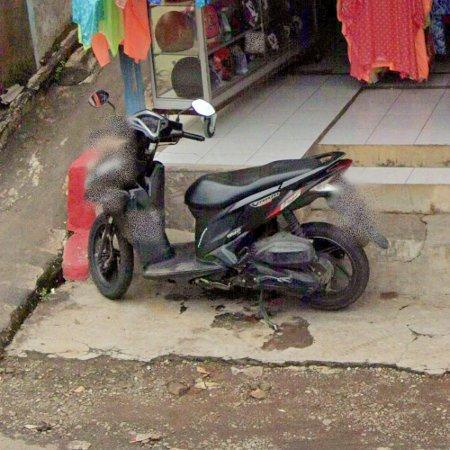motorcycles: (86, 110, 370, 310)
